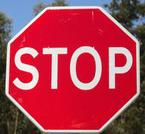Stop sign: (0, 0, 144, 133)
